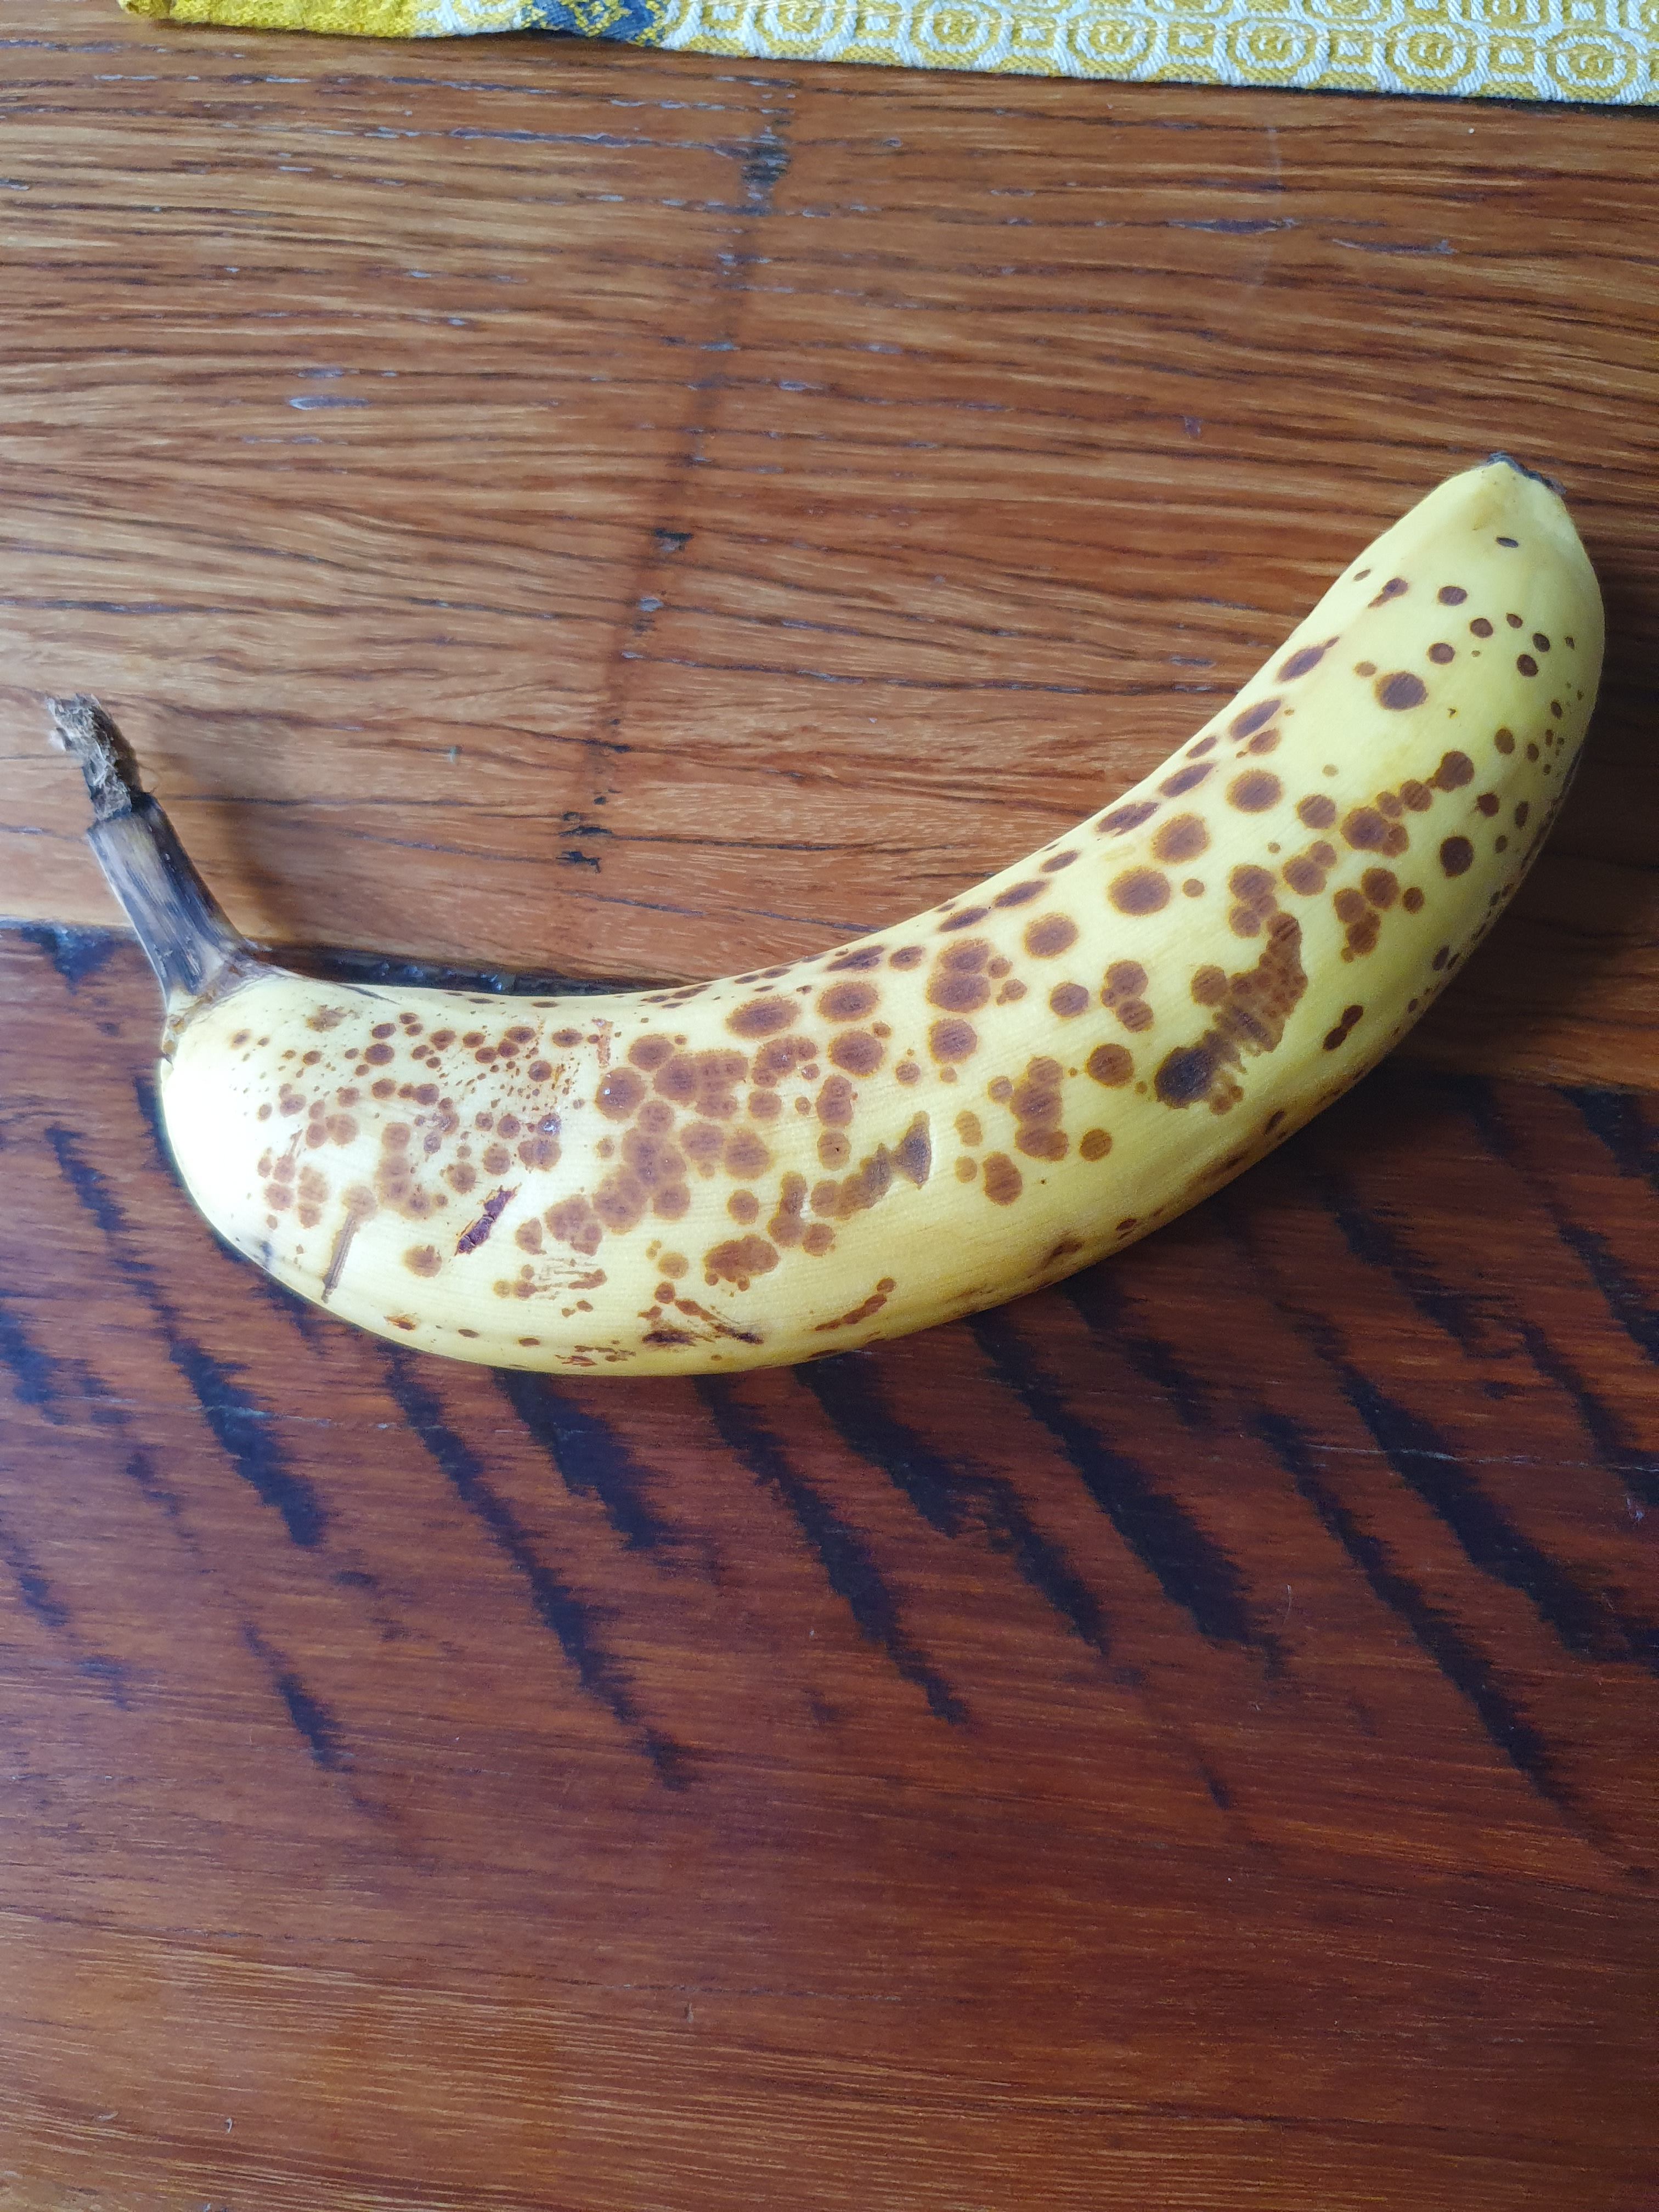banana: (21, 432, 1643, 1420)
